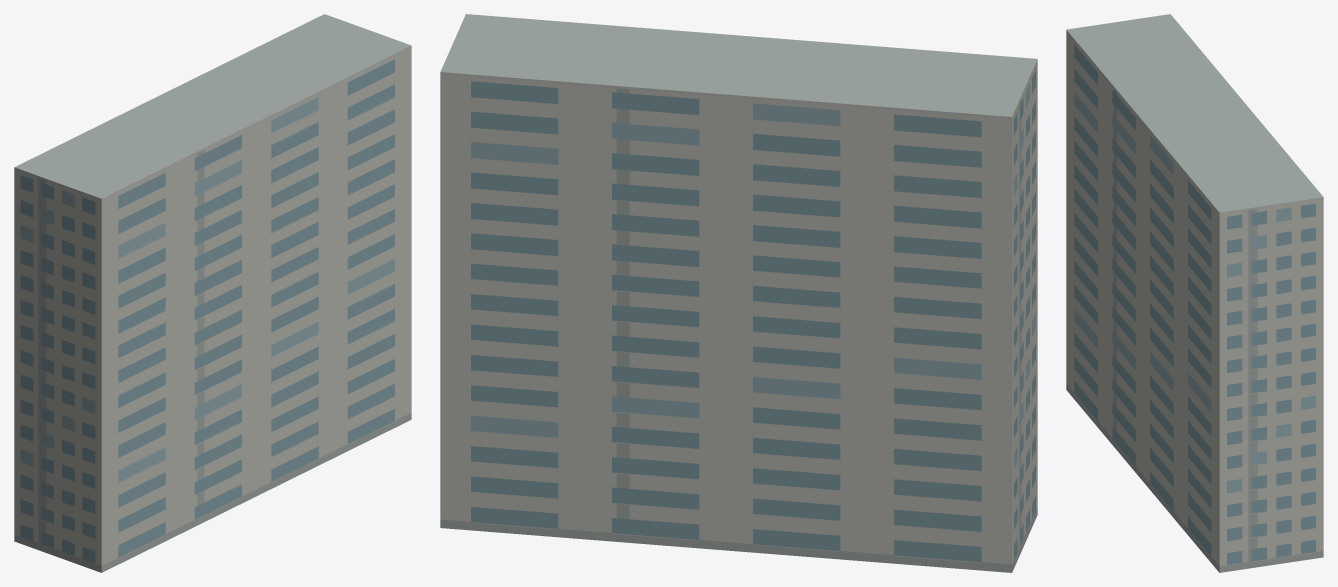
The model's file is residential-aa00bab9-5fbe-4c9a-9bdc-fade33d0bfe0.glb.
The picture shows the model from 3 angles, left to right: view 1: azimuth 30°, elevation 25°; view 2: azimuth 150°, elevation 25°; view 3: azimuth 270°, elevation 25°; orthographic projection. The views are drawn at different scales.
Visible parts, largest first — view 1: residential-aa00bab9-5fbe-4c9a-9bdc-fade33d0bfe0.tmp; view 2: residential-aa00bab9-5fbe-4c9a-9bdc-fade33d0bfe0.tmp; view 3: residential-aa00bab9-5fbe-4c9a-9bdc-fade33d0bfe0.tmp.
Part boxes in pixels (x1,y1,x2,y2): residential-aa00bab9-5fbe-4c9a-9bdc-fade33d0bfe0.tmp: (14,14,411,572); residential-aa00bab9-5fbe-4c9a-9bdc-fade33d0bfe0.tmp: (440,14,1037,572); residential-aa00bab9-5fbe-4c9a-9bdc-fade33d0bfe0.tmp: (1066,14,1323,572).
Size of the model in its own units: 54.1 by 45.75 by 29.62.
